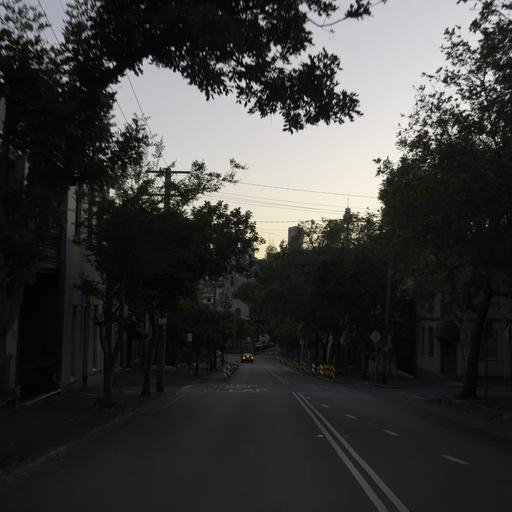Street light: (142, 158, 246, 395)
